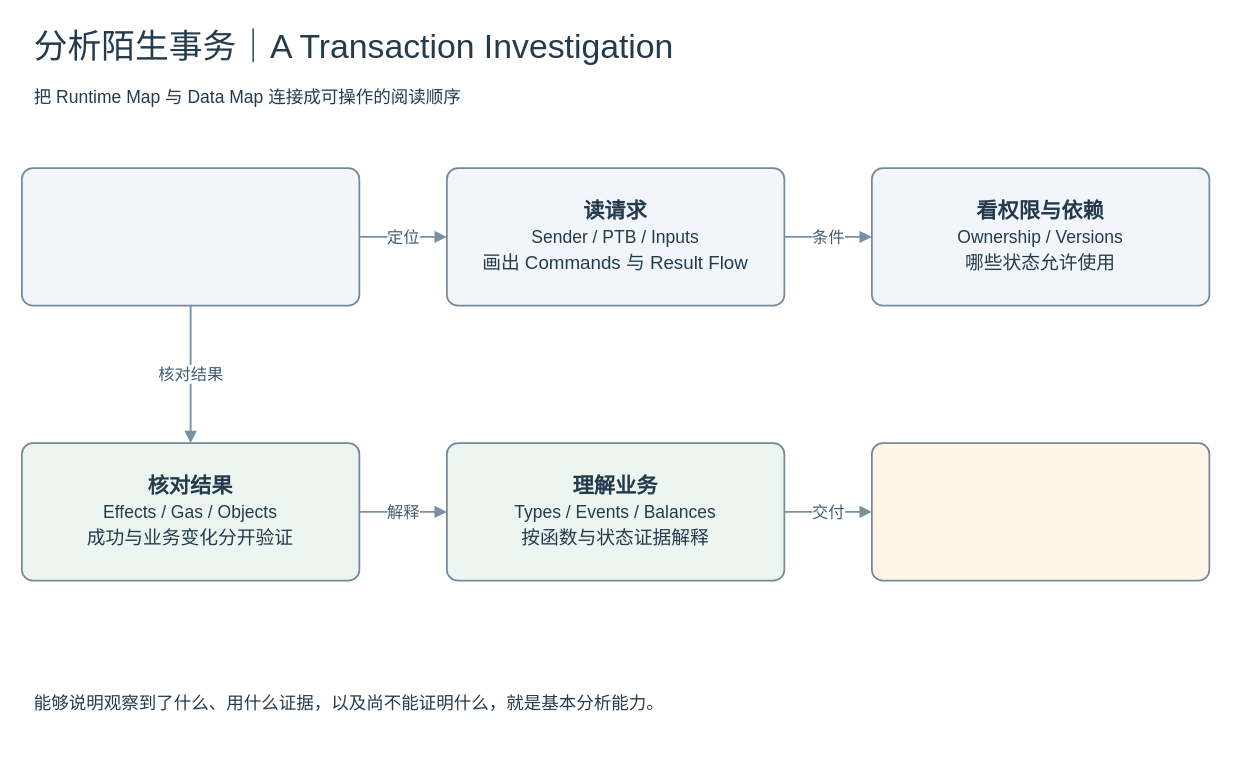
This 1233x758 diagram has some shape labels left out. Each missing label, with the centre of its shape:
"保留边界 SQL / Evidence / Limits 粒度、执行状态与不确定项" belongs at pixel 1040 511.
"固定身份 Network / Digest / Checkpoint 保存完整标识与来源" belongs at pixel 190 236.
